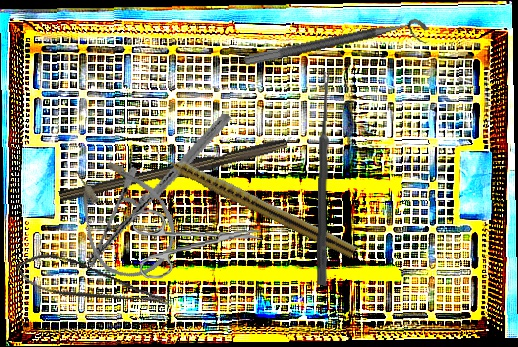Cannula: (56, 140, 190, 291)
Fixation Ring: (243, 15, 432, 82)
Handpiece: (149, 143, 359, 260)
Iris Scissors: (131, 201, 265, 281)
Micro Scissor: (12, 242, 172, 333)
Needle Holder: (83, 89, 233, 291)
Scalpel Handle: (58, 135, 289, 209)
Surgical Spoon: (316, 71, 332, 286)
